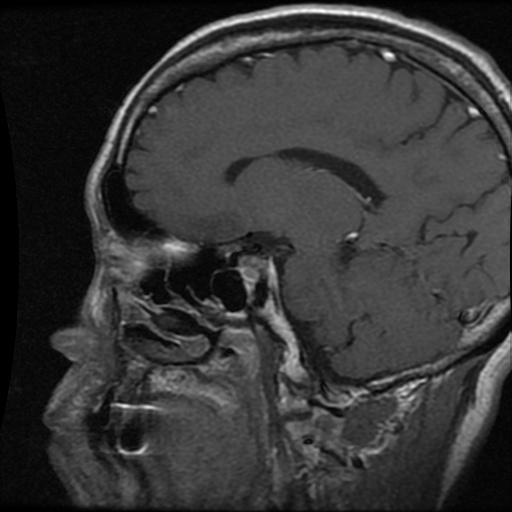pituitary: (239, 253, 268, 285)
